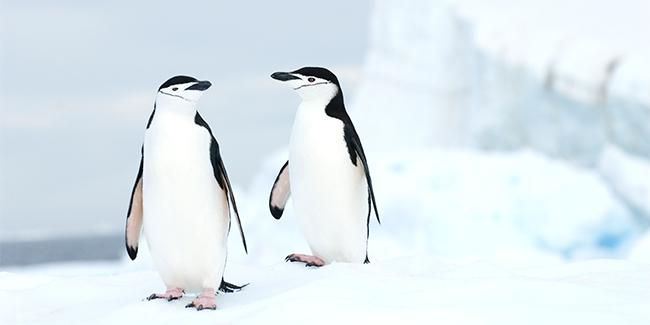chinstrap: (118, 59, 259, 314), (259, 54, 383, 278)
